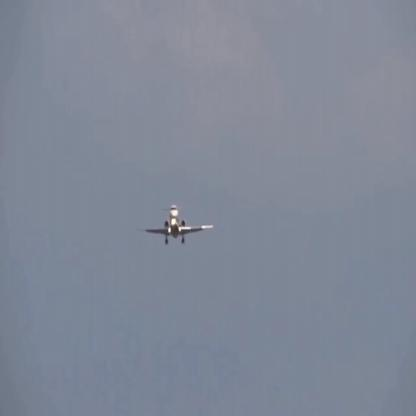CIV_Plane: (136, 196, 214, 245)
